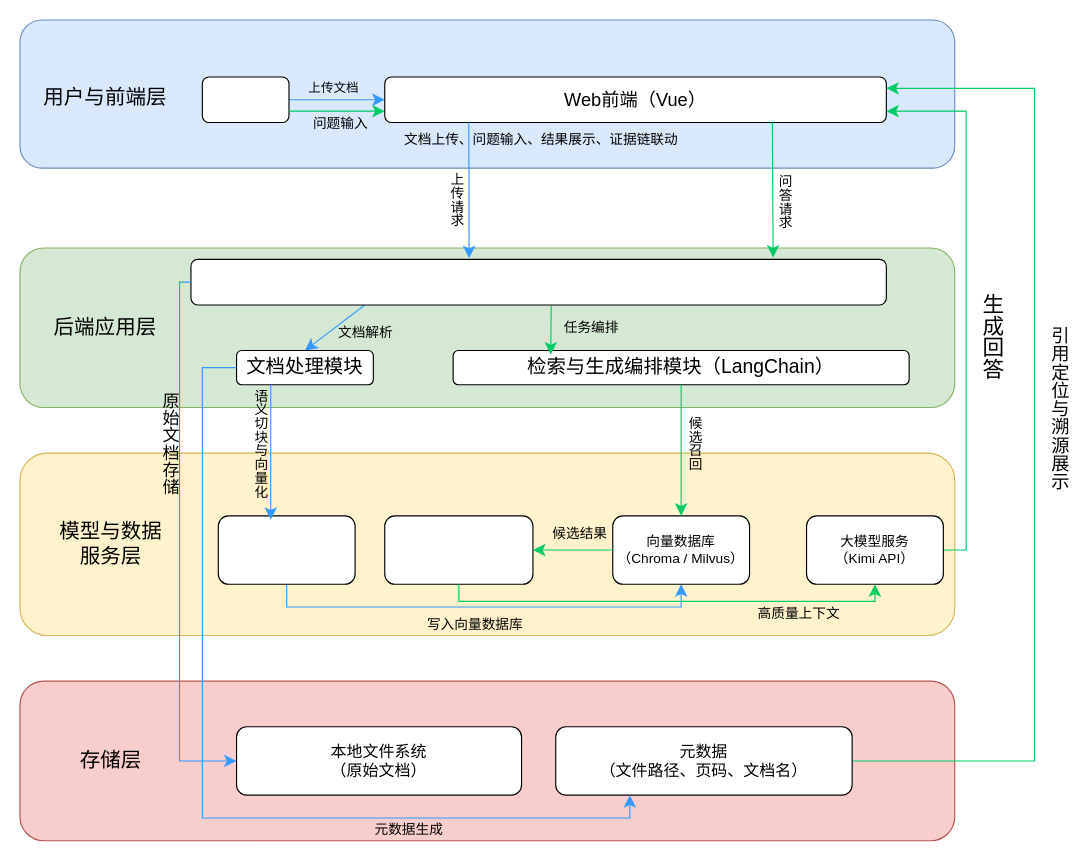
This 1089x861 diagram has some shape labels left out. The shapes that lost their labels are listed below. From the top down, each one's centre as x and y in pixels, then its label:
At point (245, 99): "用户".
At point (538, 281): "后端服务".
At point (286, 549): "Embedding模型（bge-m3 ）".
At point (458, 549): "重排序模型 （bge-reranker-v2-m3）".
